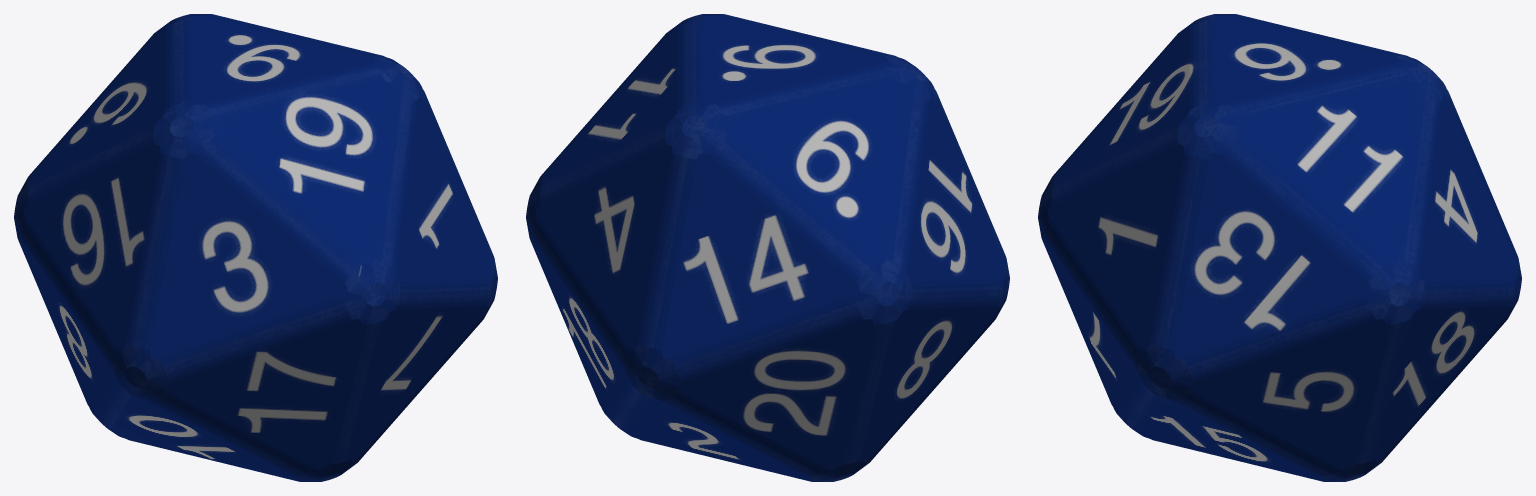
The model's file is Dice_20.glb.
The picture shows the model from 3 angles, left to right: view 1: azimuth 30°, elevation 25°; view 2: azimuth 150°, elevation 25°; view 3: azimuth 270°, elevation 25°; orthographic projection.
Parts seen in each view (by area): view 1: D20; view 2: D20; view 3: D20.
Part boxes in pixels (x1,y1,x2,y2): D20: [14, 14, 497, 481]; D20: [526, 14, 1009, 481]; D20: [1038, 14, 1521, 481].
Bounding box in the file's own units: 0.1382 × 0.1311 × 0.1532.
1 material, 1 textured.
